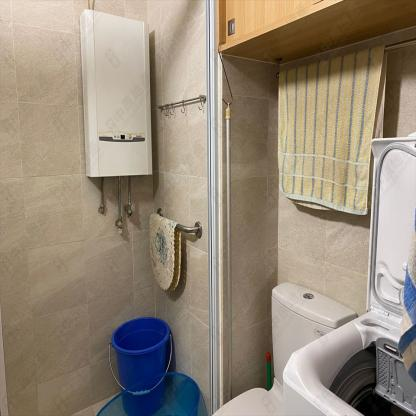Toilet: (213, 279, 357, 415)
Washing Machine: (281, 137, 416, 415)
Water Heater: (78, 10, 153, 176)
